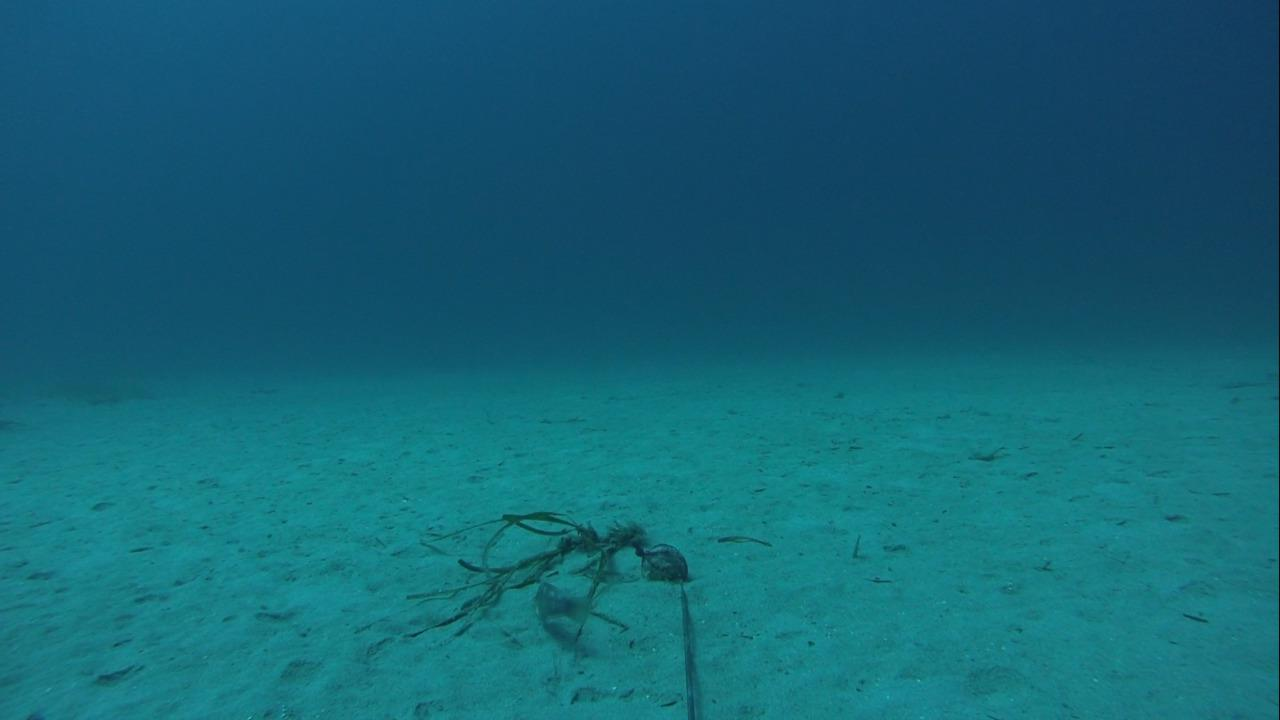raor: (524, 573, 604, 625)
